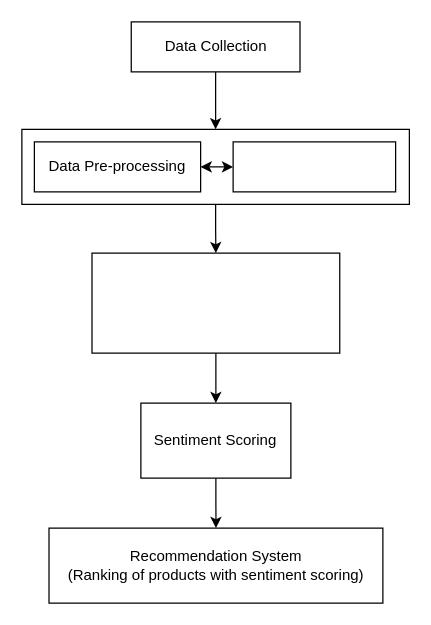
Image size: 431x625. Some labels were removed from this diagram. The shapes that lost their labels are listed below. From the top down, each one's centre as x and y in pixels, then its label:
At (314,166): "Data Exploration".
At (215,302): "Natural Language Processing (Tokenization, Stopword Removal, Lemmatization)".
